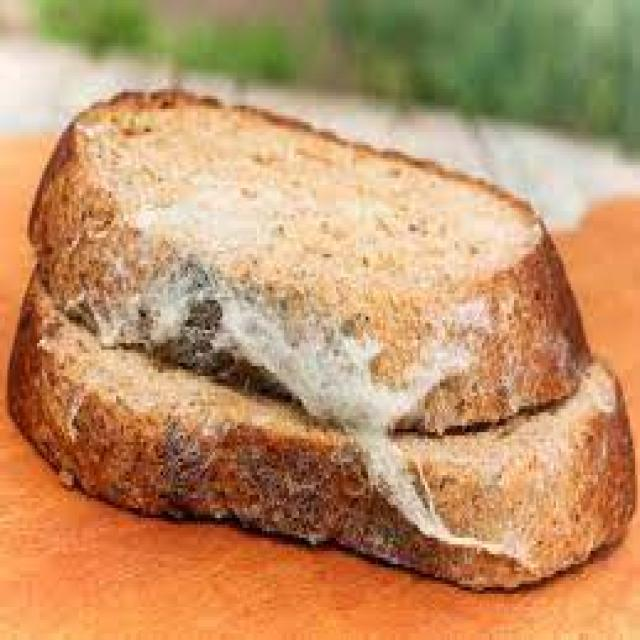Wet Waste: (32, 92, 587, 424)
